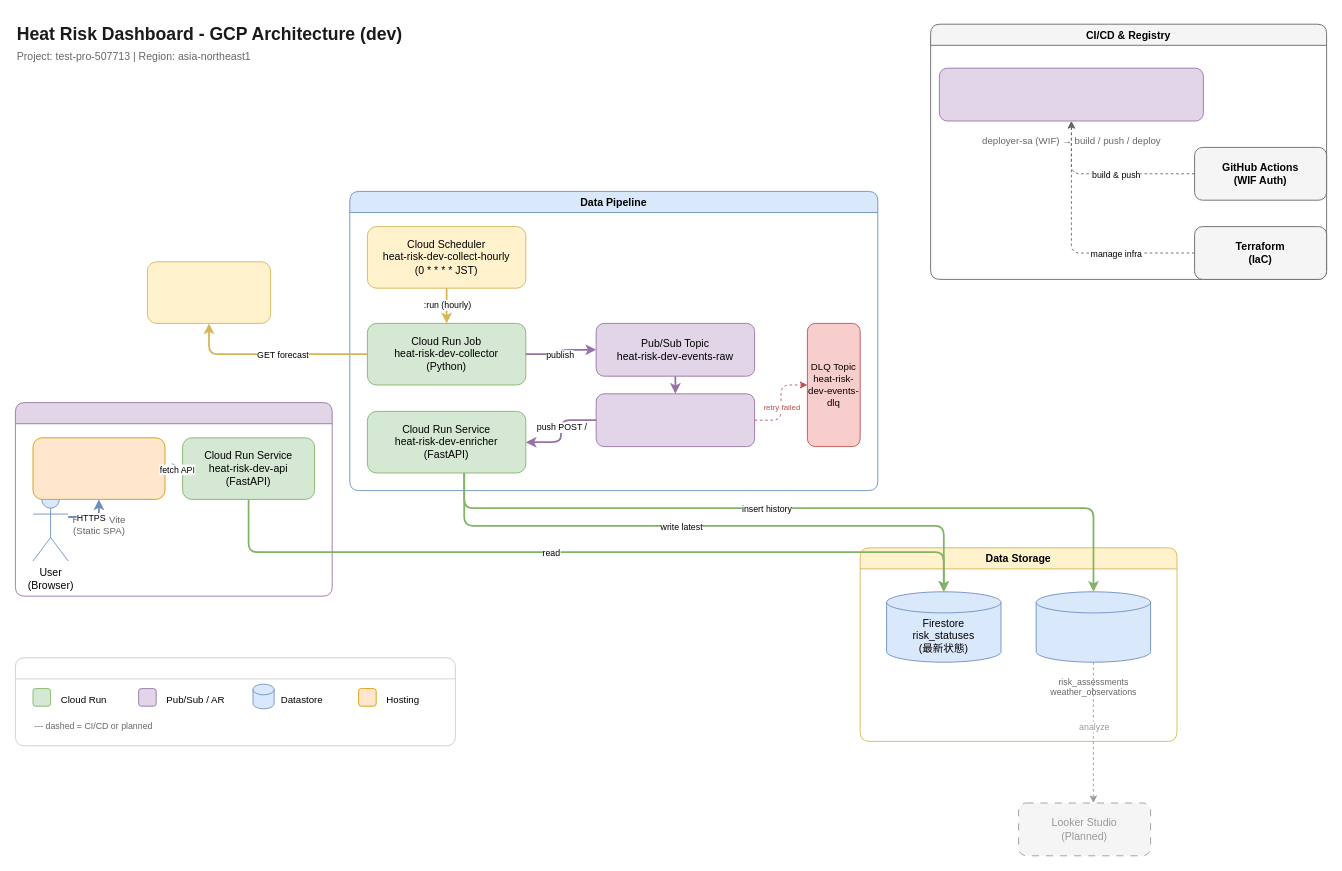
This 1342x871 diagram has some shape labels left out. The shapes that lost their labels are listed below. From the top down, each one's box as (x1, y1, x2, y2) in pixels, then its label:
(939, 67, 1203, 121): Artifact Registry heat-risk-dev-images (api / collector / enricher)
(147, 261, 271, 323): Open-Meteo JMA API (External)
(595, 393, 755, 447): Push Subscription heat-risk-dev-events-enricher
(32, 437, 165, 499): Firebase Hosting heat-risk-dev .web.app
(15, 402, 332, 596): Serving Layer
(1035, 591, 1151, 662): BigQuery heat_risk_dev (履歴)
(15, 657, 455, 746): Legend
